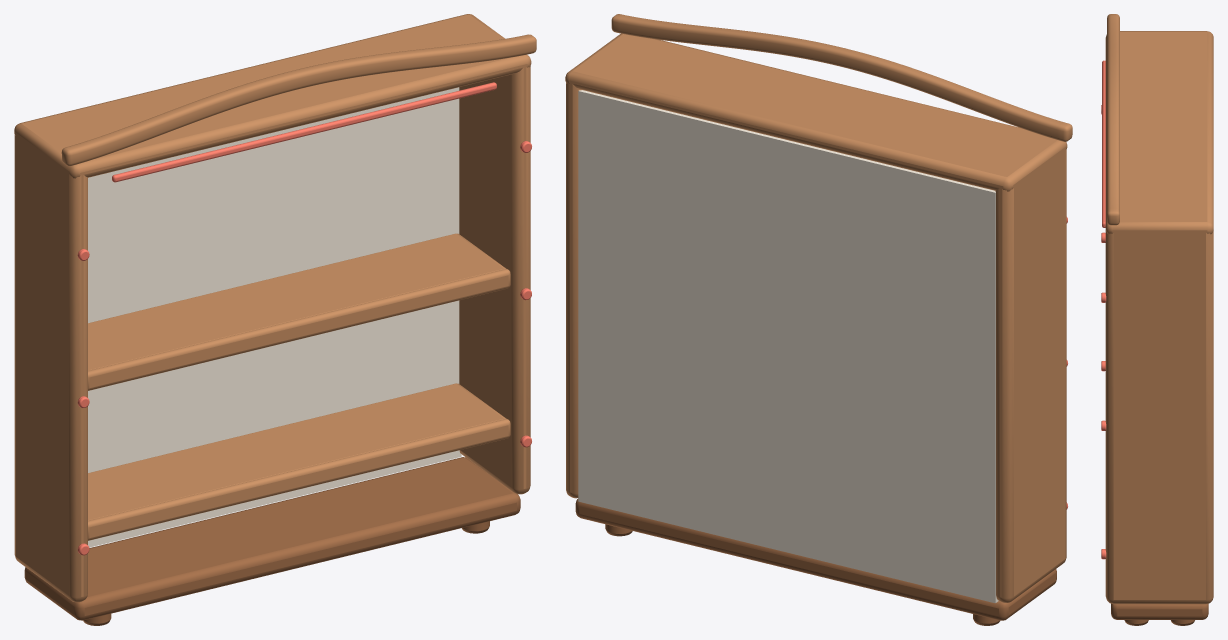
Rendered from bookcase.glb.
3 renders of one model, left to right at view 1: azimuth 30°, elevation 25°; view 2: azimuth 150°, elevation 25°; view 3: azimuth 270°, elevation 25°, orthographic. The views are drawn at different scales.
Parts seen in each view (by area): view 1: Back, SideL, Plinth, Top, SideR, ShelfBooks, ShelfLow, Crown, ShelfBooksLip, ShelfLowLip, TrimStrip; view 2: Back, Top, SideL, Crown, Plinth, SideR; view 3: SideR, Top, Crown, Plinth, TrimStrip.
Boxes of the visible parts, x1,y1,x2,y2 form: Back: (88,87,461,547); SideL: (14,123,87,602); Plinth: (24,457,520,620); Top: (14,14,531,178); SideR: (459,15,530,494); ShelfBooks: (88,233,506,370); ShelfLow: (88,383,506,520); Crown: (61,34,536,166); ShelfBooksLip: (88,269,510,390); ShelfLowLip: (88,419,510,540); TrimStrip: (112,82,496,182); Back: (578,90,998,603); Top: (565,33,1067,191); SideL: (995,139,1066,602); Crown: (611,14,1072,141); Plinth: (575,498,1056,620); SideR: (566,34,626,498); SideR: (1105,220,1213,604); Top: (1105,31,1213,234); Crown: (1107,14,1119,225); Plinth: (1111,603,1208,619); TrimStrip: (1102,60,1105,227).
Bounding box in the file's own units: 1.84 × 1.92 × 0.438.
